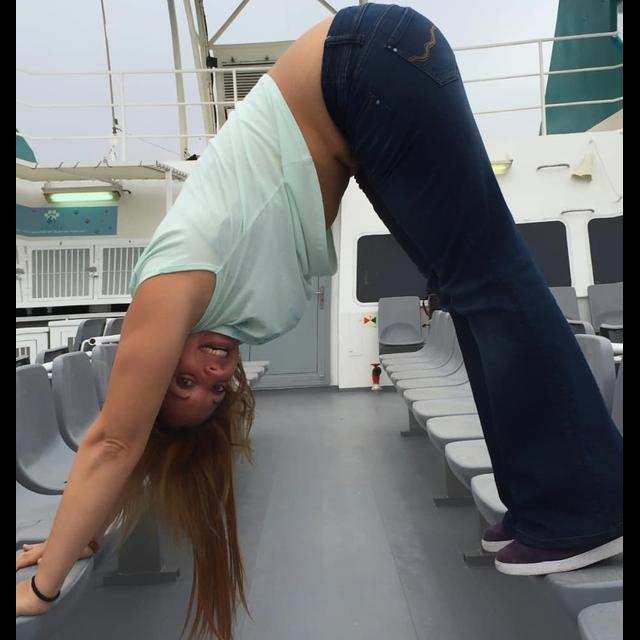Downward-Facing_Dog: (12, 1, 625, 626)
